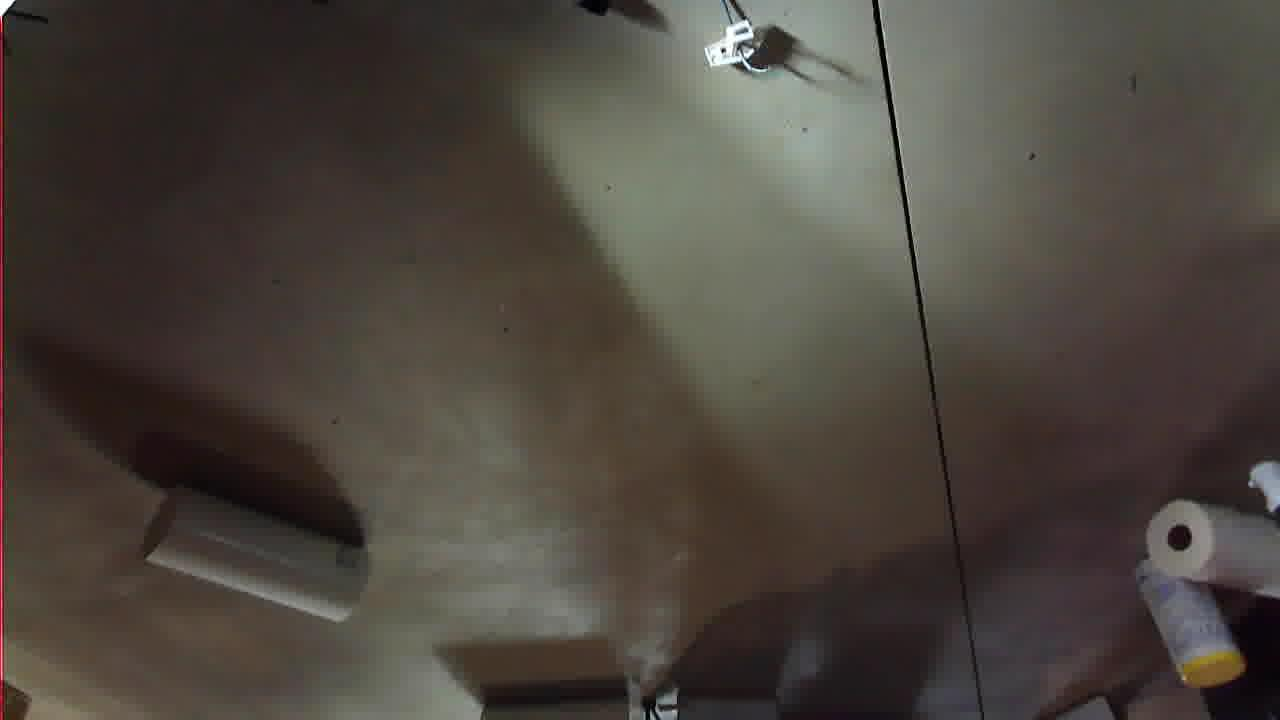coral: (910, 97, 1139, 237), (644, 0, 810, 21)
